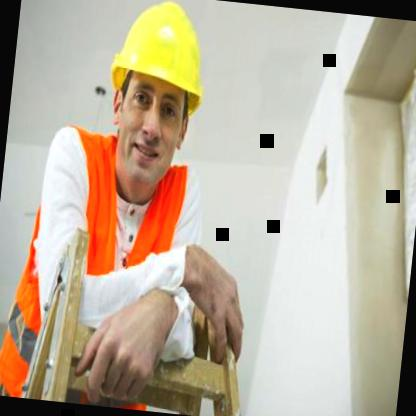helmet: (86, 0, 219, 207)
